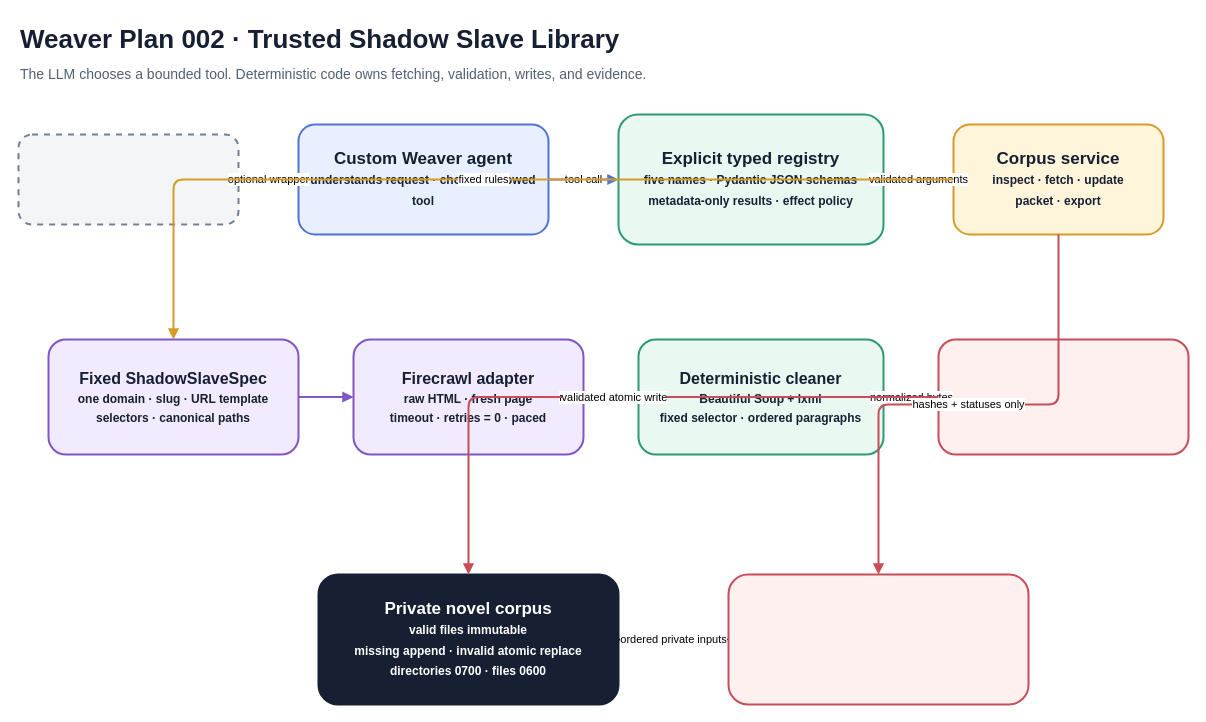
Some shapes in this 1206 by 722 pixel diagram are drawn without their labels. Each missing label, with the centre of its shape:
"Conversation loop LangGraph may wrap this later" belongs at pixel 128 179.
"Ignored Weaver state manifest · metadata receipts packets · TXT/MD/EPUB exports" belongs at pixel 878 639.
"Strict validator status · final URL · chapter identity title · length · markers" belongs at pixel 1063 396.
